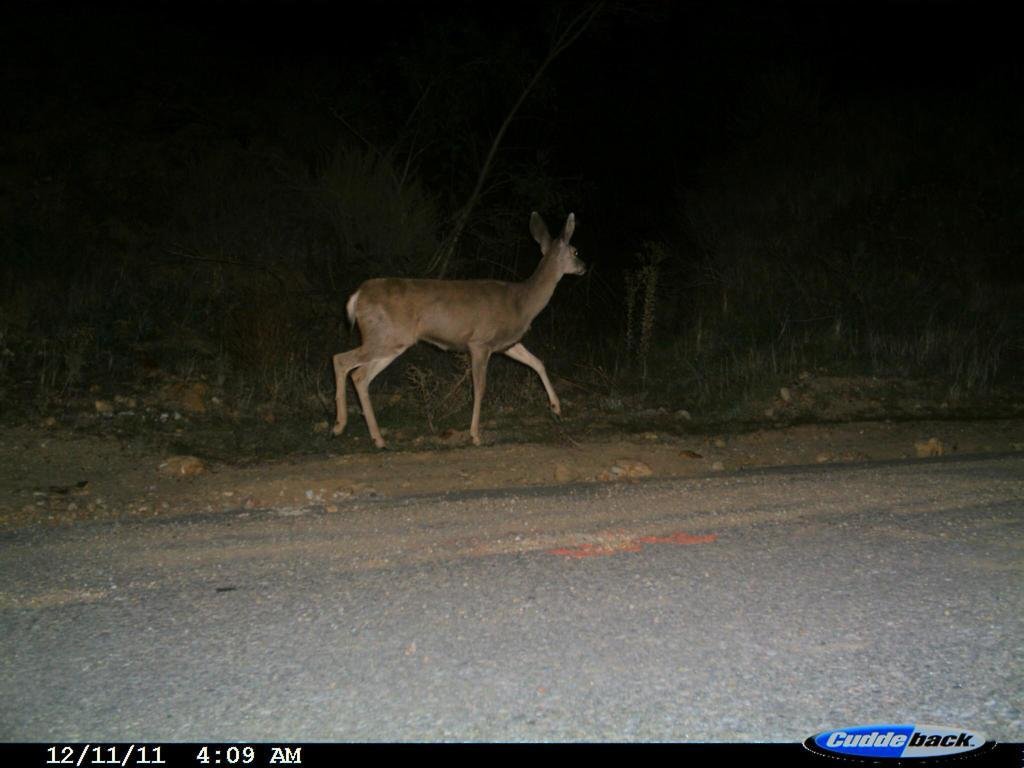deer: (292, 216, 611, 431)
